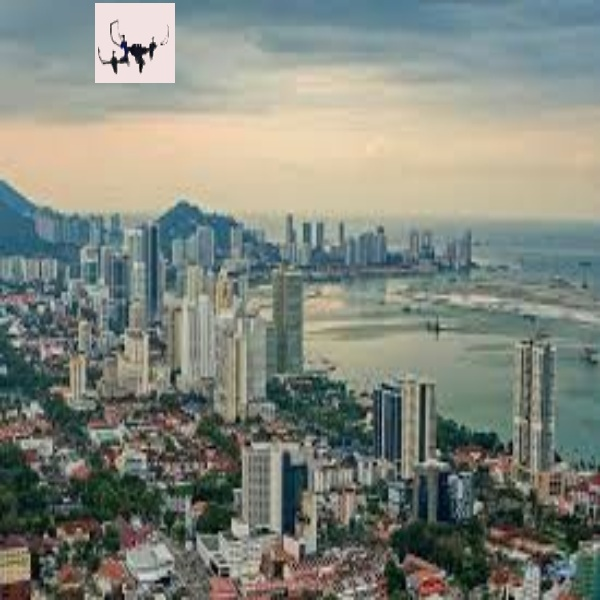drone: (92, 14, 172, 78)
